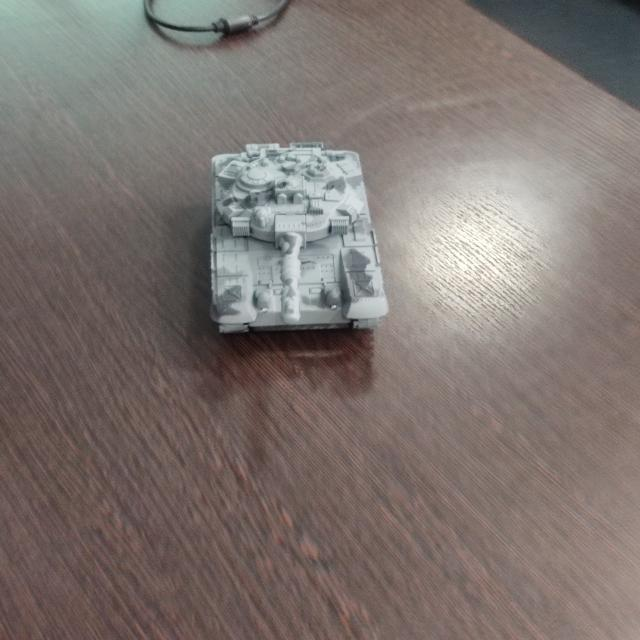MIL_MBT: (211, 144, 394, 344)
